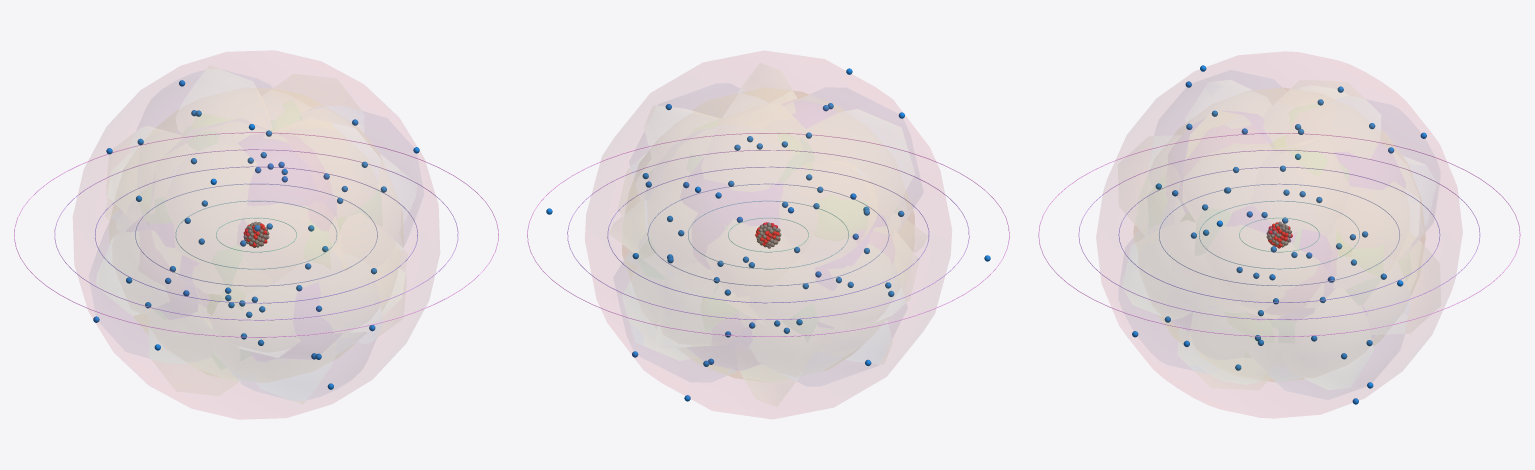
3 views of the same model, side by side, from view 1: azimuth 30°, elevation 25°; view 2: azimuth 150°, elevation 25°; view 3: azimuth 270°, elevation 25° (orthographic).
Parts seen in each view (by area): view 1: Nivel_n6, Nivel_n5, Orbital_4s_0, Nivel_n4, Nivel_n3; view 2: Orbital_4s_0, Nivel_n6, Nivel_n5, Nivel_n4, Nivel_n3; view 3: Nivel_n6, Nivel_n5, Orbital_4s_0, Nivel_n4, Nivel_n3.
Part boxes in pixels (x1=…): Nivel_n6: x1=14, y1=132, x2=498, y2=337; Nivel_n5: x1=54, y1=149, x2=458, y2=320; Orbital_4s_0: x1=109, y1=88, x2=403, y2=376; Nivel_n4: x1=95, y1=166, x2=417, y2=303; Nivel_n3: x1=135, y1=183, x2=377, y2=286; Orbital_4s_0: x1=622, y1=88, x2=914, y2=380; Nivel_n6: x1=527, y1=133, x2=1009, y2=336; Nivel_n5: x1=567, y1=150, x2=969, y2=319; Nivel_n4: x1=607, y1=166, x2=929, y2=303; Nivel_n3: x1=647, y1=183, x2=889, y2=286; Nivel_n6: x1=1038, y1=133, x2=1520, y2=336; Nivel_n5: x1=1078, y1=150, x2=1480, y2=319; Orbital_4s_0: x1=1134, y1=88, x2=1424, y2=381; Nivel_n4: x1=1118, y1=167, x2=1440, y2=302; Nivel_n3: x1=1159, y1=183, x2=1399, y2=286.
Bounding box in the file's own units: 1.8 × 1.64 × 1.8.
